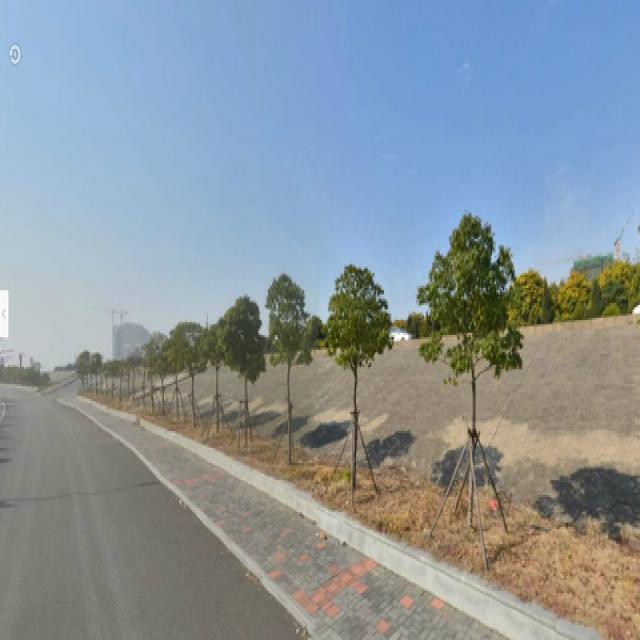cinn: (429, 200, 514, 536), (338, 254, 382, 495), (272, 279, 303, 463), (232, 307, 264, 450), (196, 318, 223, 437)
